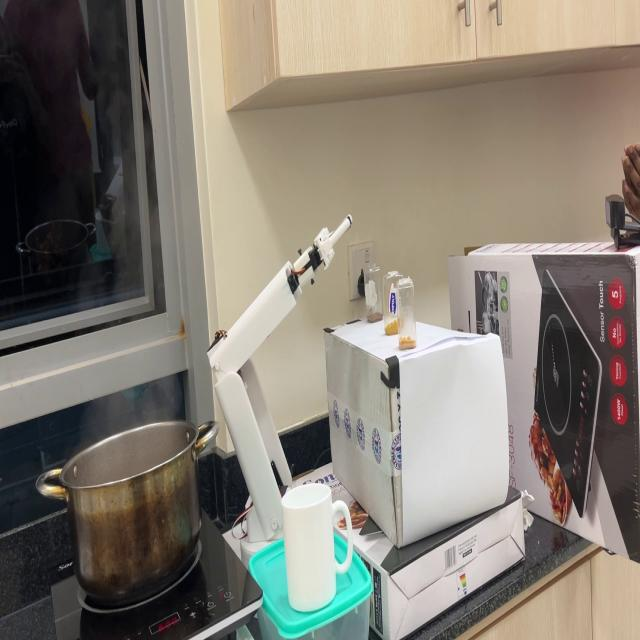cooking_pot: (40, 434, 219, 599)
curry_powder: (386, 314, 398, 336)
garlic_powder: (401, 332, 417, 357)
maggie_open: (365, 311, 383, 322)
